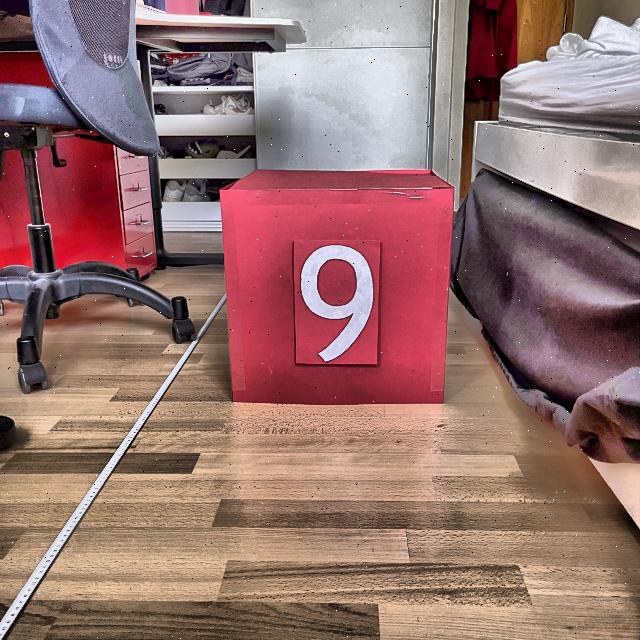nine: (296, 240, 378, 362)
red box: (222, 168, 452, 406)
